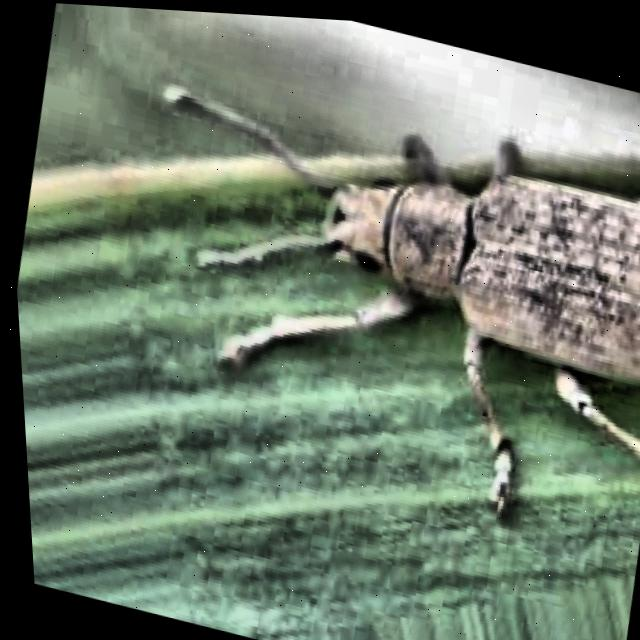Stink bug: (247, 26, 640, 532)
